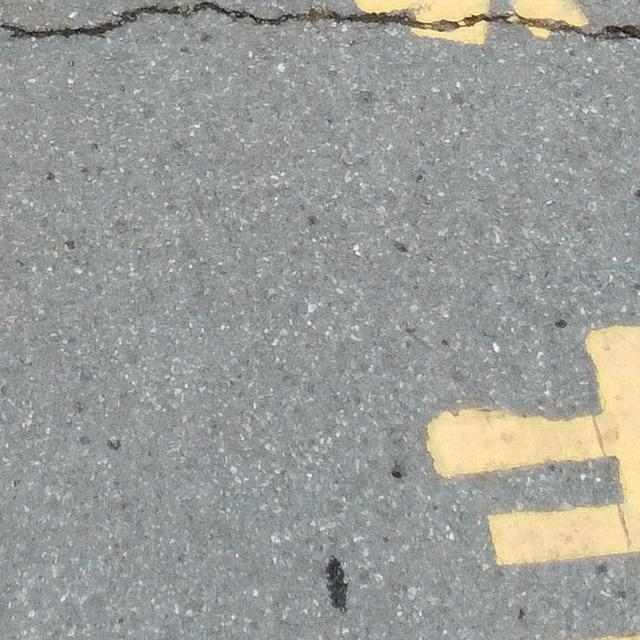TransverseCrack: (1, 1, 640, 42)
